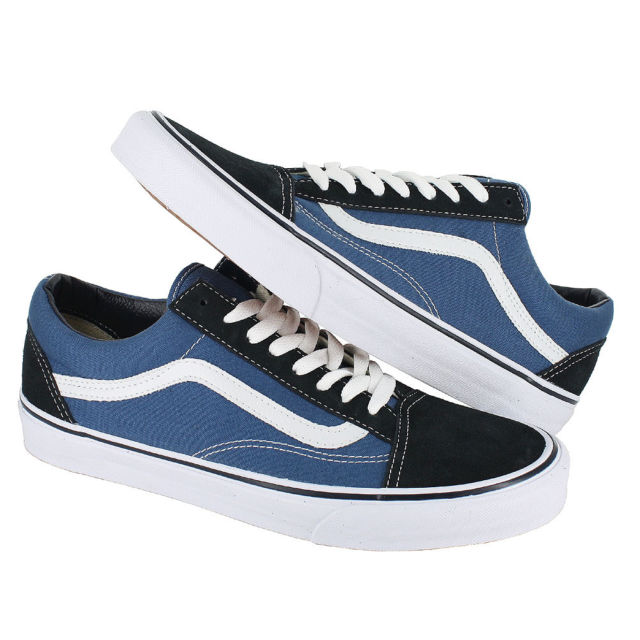Vans Old Skool Blue: (110, 87, 616, 440), (9, 255, 590, 550)
